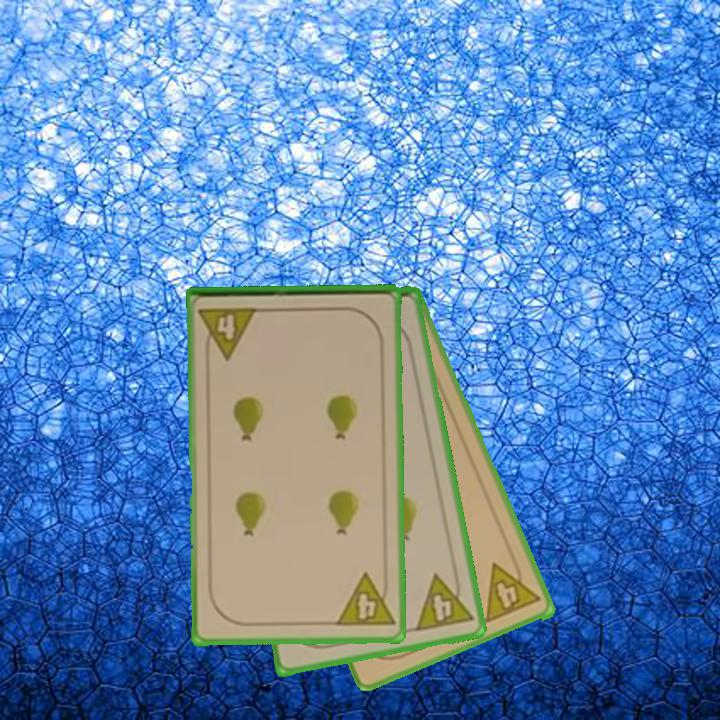4p: (481, 553, 543, 626), (411, 567, 476, 635), (332, 570, 397, 630), (196, 304, 261, 361)
